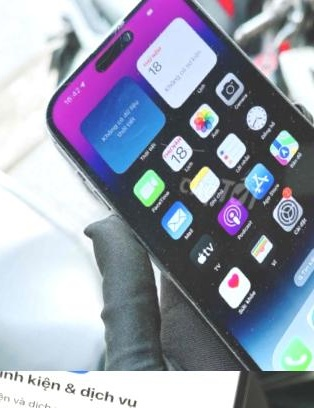physical_damage: (144, 114, 226, 170), (98, 8, 149, 56), (299, 334, 314, 371)
